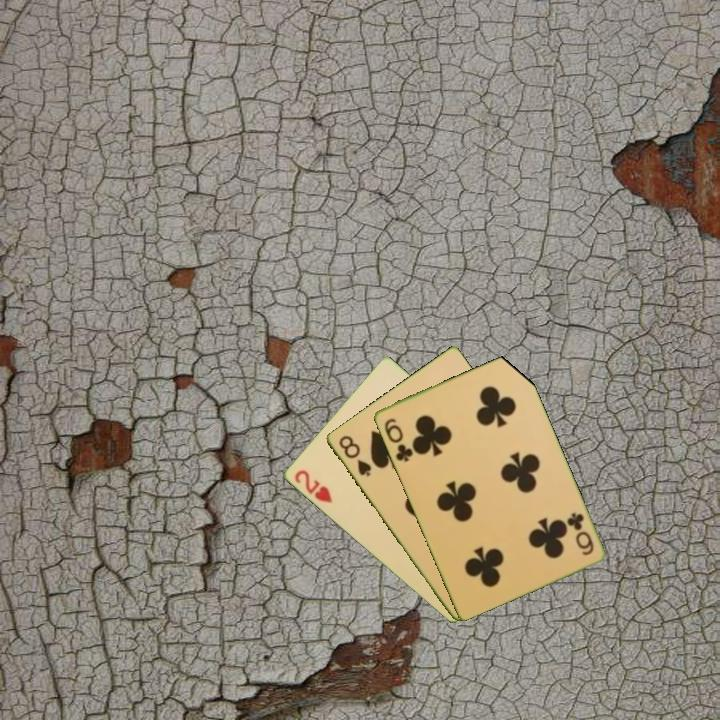2h: (290, 466, 335, 506)
6c: (380, 414, 416, 465), (563, 509, 596, 558)
8s: (335, 431, 374, 480)
